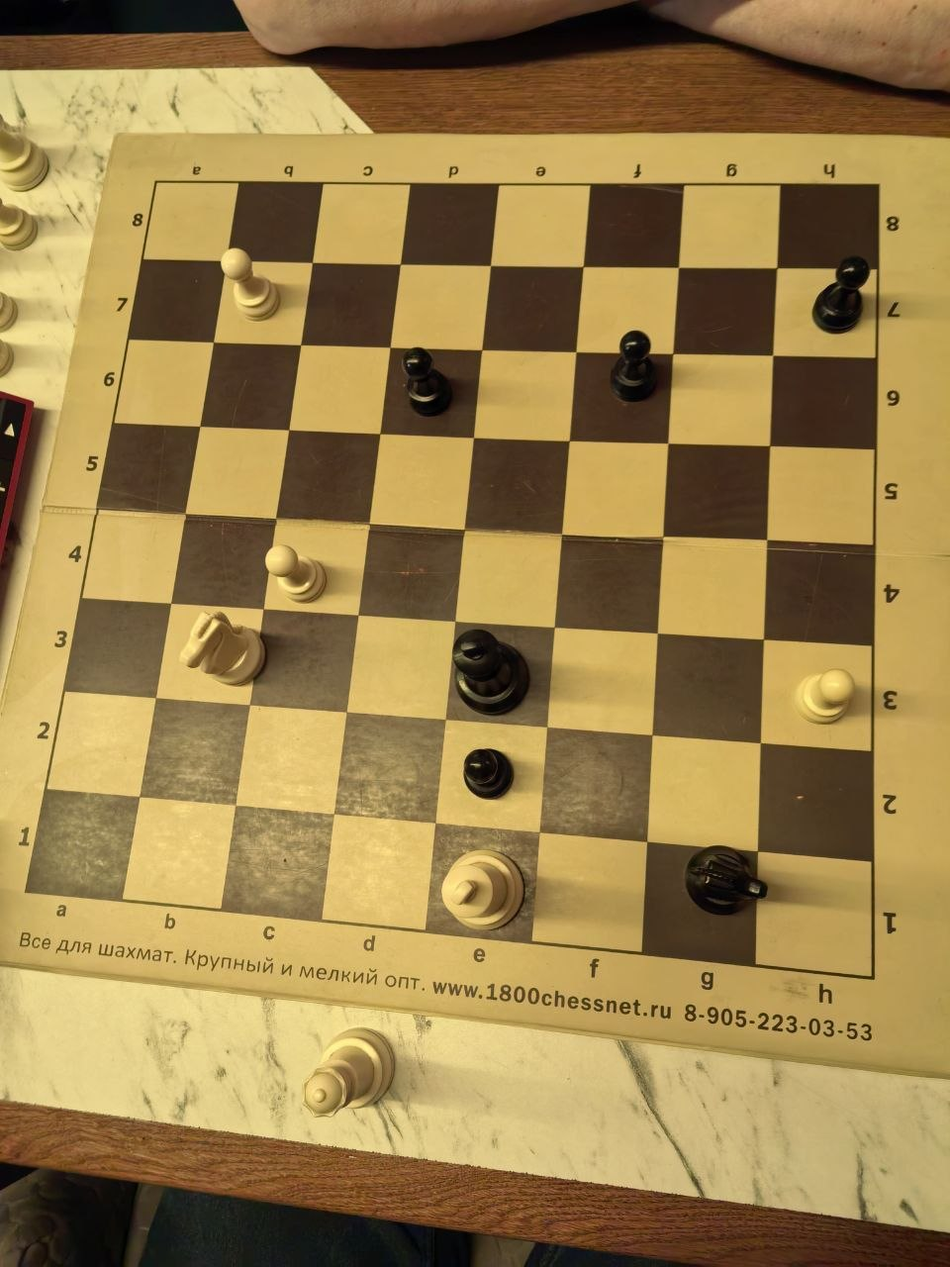black-bishop: (475, 1109, 594, 1267)
black-queen: (119, 792, 238, 950)
black-rook: (119, 158, 238, 317), (831, 792, 950, 950), (238, 634, 356, 792)
white-bishop: (475, 792, 594, 950)
white-queen: (712, 1109, 831, 1267)
white-rook: (831, 158, 950, 317), (475, 950, 594, 1109), (356, 317, 475, 475), (594, 317, 712, 475)
